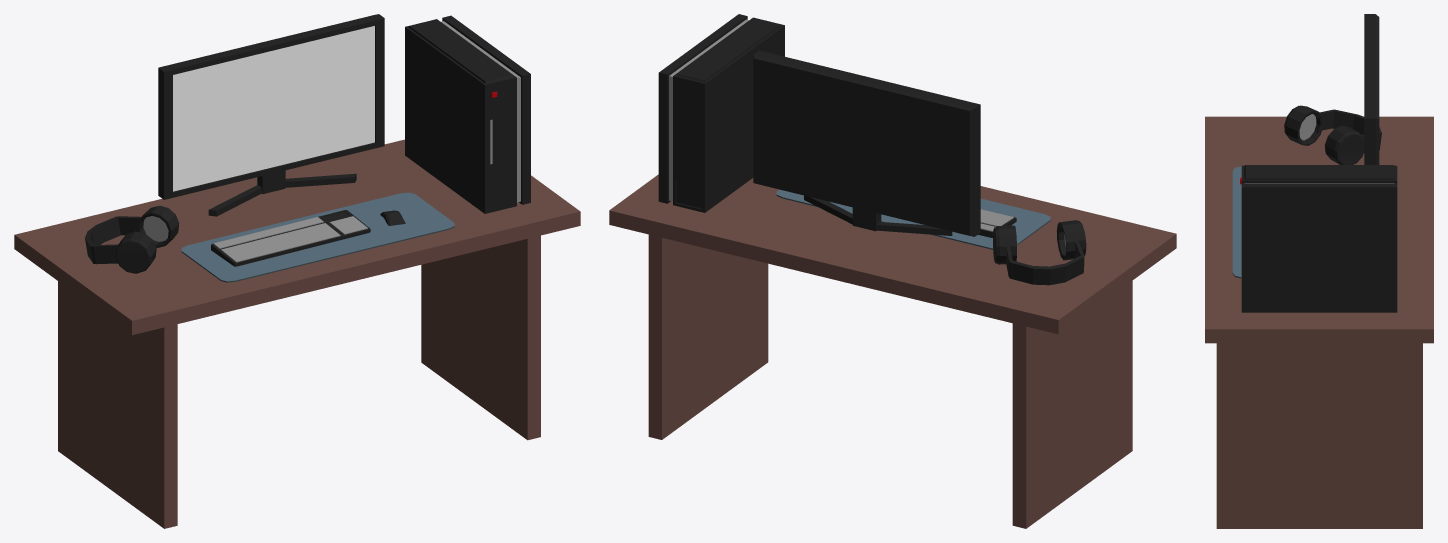
The model's file is Bedroom Office.glb.
The picture shows the model from 3 angles, left to right: view 1: azimuth 30°, elevation 25°; view 2: azimuth 150°, elevation 25°; view 3: azimuth 270°, elevation 25°; orthographic projection. The views are drawn at different scales.
Parts seen in each view (by area): view 1: Office; view 2: Office; view 3: Office.
Part boxes in pixels (box(x1,y1,x2,y2)): Office: box(14, 14, 580, 528); Office: box(609, 14, 1176, 528); Office: box(1205, 14, 1433, 528).
Bounding box in the file's own units: 1.8 × 1.47 × 0.8191.
Materials: 2 (1 with a texture image).
